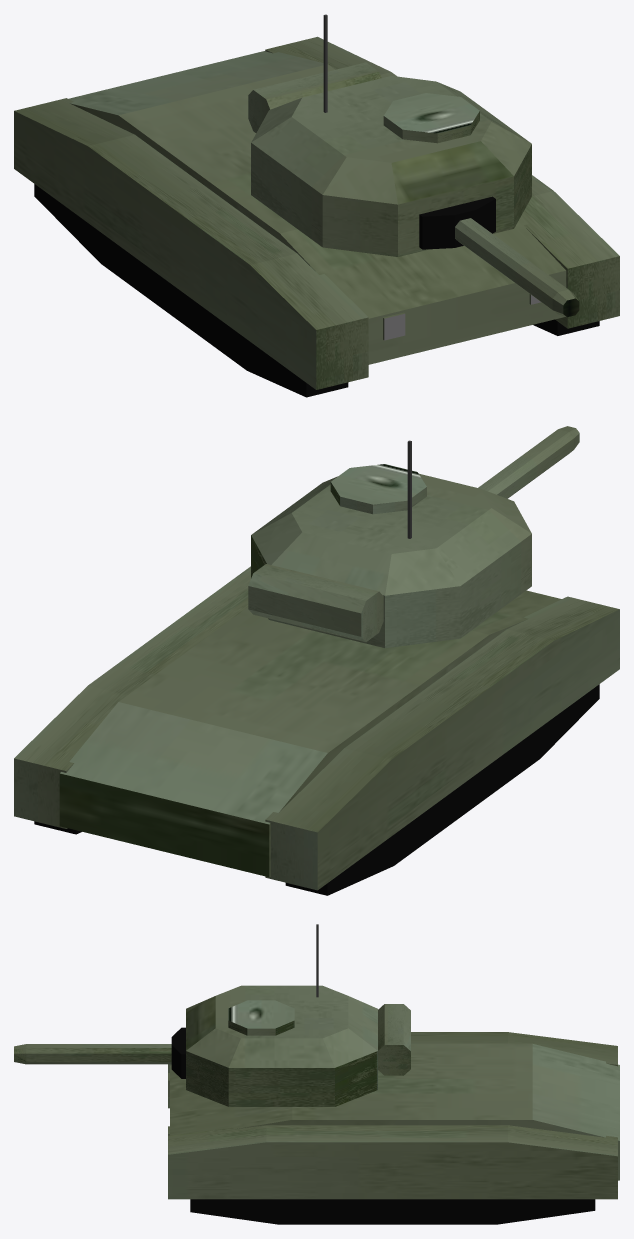
The model's file is sniper_tank.glb.
The picture shows the model from 3 angles, top to bottom: view 1: azimuth 30°, elevation 25°; view 2: azimuth 150°, elevation 25°; view 3: azimuth 270°, elevation 25°; orthographic projection. The views are drawn at different scales.
Parts seen in each view (by area): view 1: Track_R, Turret, Hull, Track_L, Barrel; view 2: Hull, Track_R, Turret, Track_L, Barrel; view 3: Track_L, Hull, Turret, Barrel, Track_R.
Boxes of the visible parts, <box> form: Track_R: <box>14,98,368,397</box>; Turret: <box>248,14,531,256</box>; Hull: <box>68,51,566,364</box>; Track_L: <box>265,36,619,335</box>; Barrel: <box>455,218,579,317</box>; Hull: <box>59,590,561,877</box>; Track_R: <box>265,596,619,895</box>; Turret: <box>248,440,531,648</box>; Track_L: <box>14,566,250,834</box>; Barrel: <box>478,426,579,498</box>; Track_L: <box>168,1125,617,1224</box>; Hull: <box>168,1043,619,1180</box>; Turret: <box>171,924,410,1106</box>; Barrel: <box>14,1044,171,1064</box>; Track_R: <box>168,1032,617,1108</box>.
Size of the model in its own units: 1.96 by 1.92 by 4.56.
8 materials, 5 textured.
